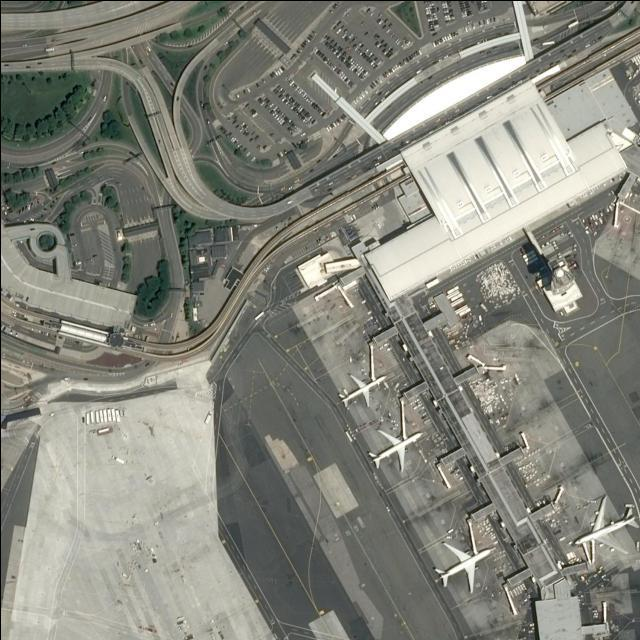Aircraft: (571, 493, 639, 555), (431, 536, 491, 592), (363, 424, 423, 472), (334, 368, 384, 406)
